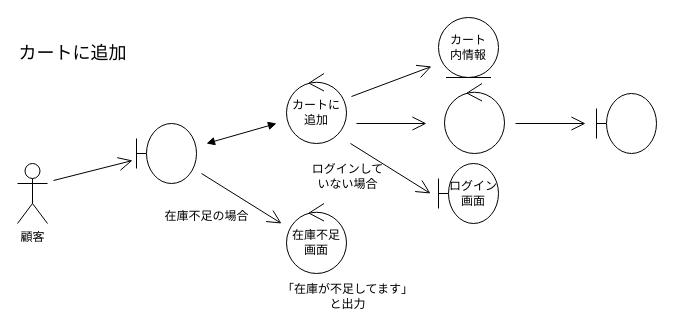
Image size: 674x328. Some labels were removed from this diagram. The centre of each missing label's shape, as x and y in pixels:
カートに 追加完了: (x=474, y=118)
商品一覧画面: (x=626, y=123)
商品詳細画面: (x=166, y=153)
